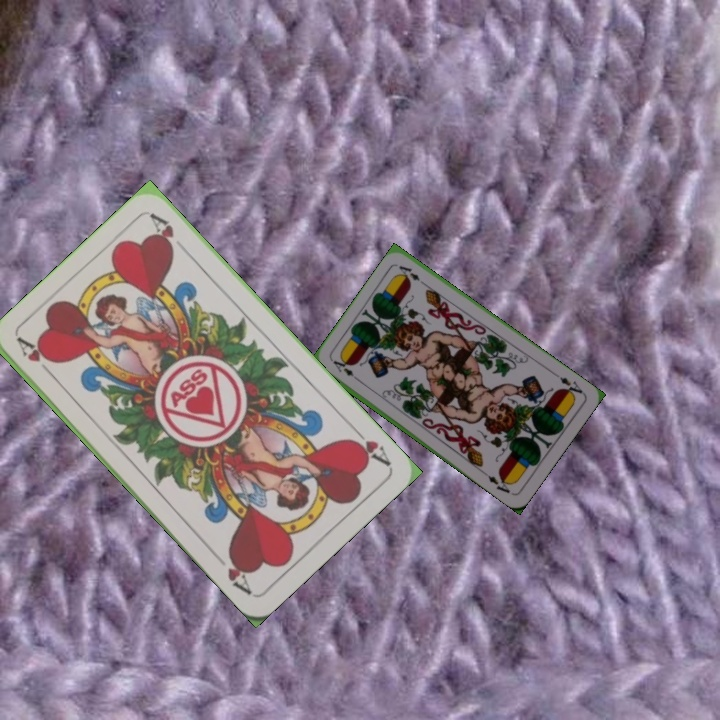EA: (550, 369, 587, 400), (329, 356, 363, 385)
HA: (344, 421, 393, 469), (14, 334, 59, 382)
